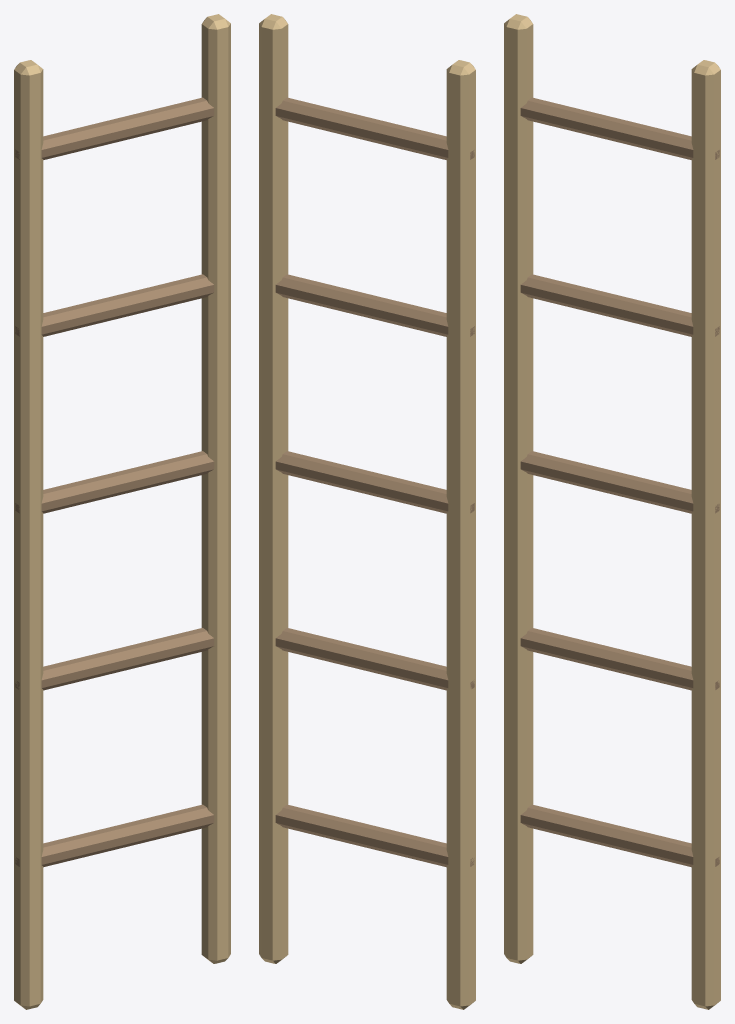
3 views of the same model, side by side, from view 1: azimuth 30°, elevation 25°; view 2: azimuth 150°, elevation 25°; view 3: azimuth 330°, elevation 25° (orthographic).
Parts seen in each view (by area): view 1: 边杆, 横档; view 2: 边杆, 横档; view 3: 边杆, 横档.
Boxes of the visible parts, x1,y1,x2,y2 form: 边杆: [14, 14, 230, 1009]; 横档: [15, 97, 214, 867]; 边杆: [259, 14, 475, 1009]; 横档: [275, 97, 474, 867]; 边杆: [504, 14, 720, 1009]; 横档: [520, 97, 719, 867].
Size of the model in its own units: 56 by 240 by 6.
